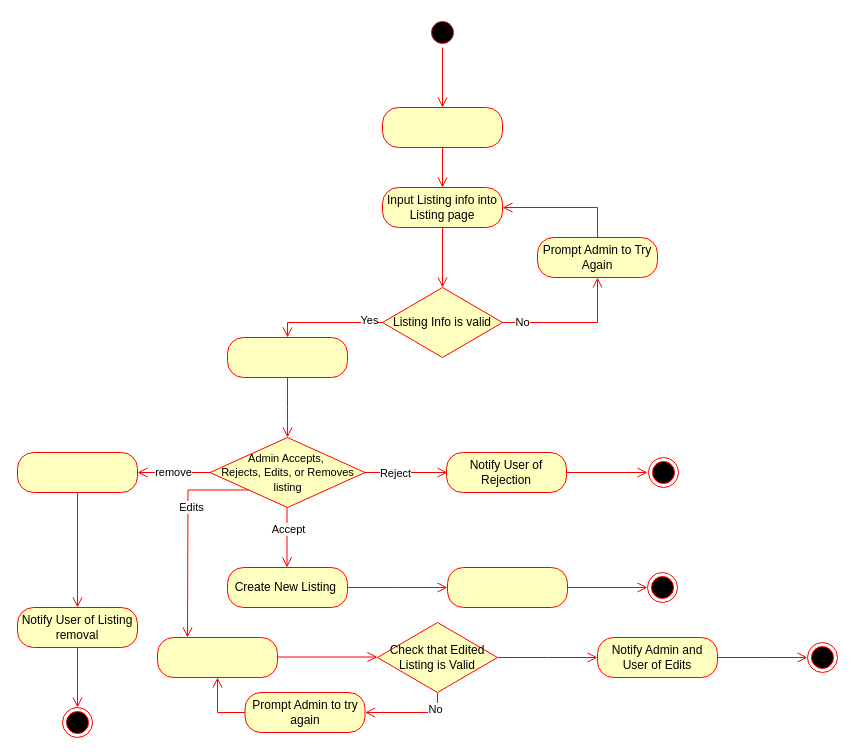
Image size: 855x755. Some labels were removed from this diagram. Here are the shapes that lost their labels. From the top down, the centre of each, then its label:
At (442,127): "Login".
At (287,357): "Access Listing page".
At (77,472): "Get Listing's Owner Info".
At (507,587): "Notify User of Listing Creation".
At (217,657): "Provide Admin with editing fields".
